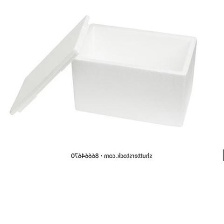foam_box: (5, 10, 200, 129)
